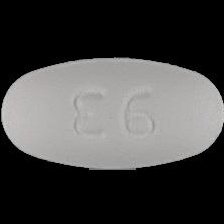54868-6108: (0, 0, 224, 224)
